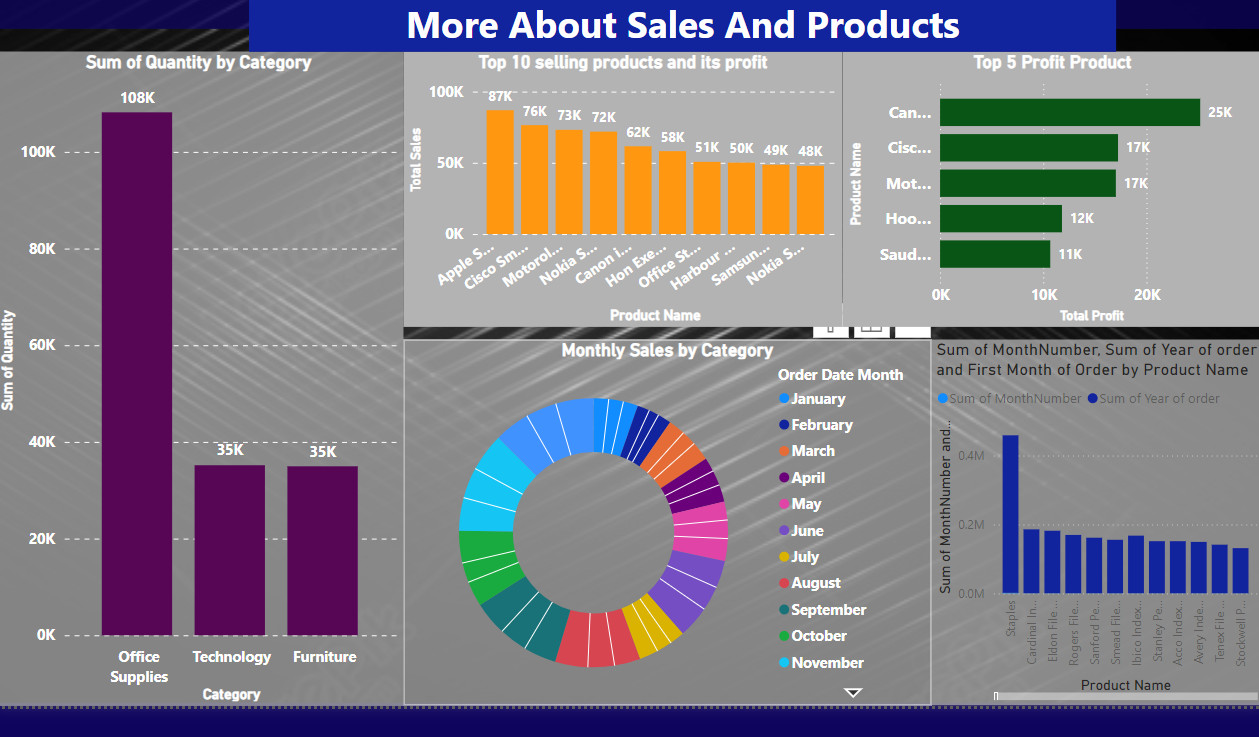

Layout of this report page (visuals, bound fields, positions):
{"tool":"powerbi","page":{"name":"Sales And Products","canvas":[1280,720],"ordinal":1},"visuals":[{"type":"donutChart","title":"Monthly Sales by Category","fields":{"Category":["Orders.Order Date.Variation.Date Hierarchy.Month"],"Y":["Sum(Orders.Sales)"],"Series":["Orders.Category"]},"box":[413.4,349.8,533,369.5],"z":1000},{"type":"clusteredColumnChart","title":"Top 10 selling products and its profit","fields":{"Category":["Orders.Product Name"],"Y":["Orders.Total Sales"]},"box":[413.3,59,443.5,277.9],"z":2000},{"type":"columnChart","fields":{"Category":["Orders.Category"],"Y":["Sum(Orders.Quantity)"]},"box":[0,59,413.3,661],"z":3000},{"type":"clusteredBarChart","title":"Top 5 Profit Product ","fields":{"Y":["Orders.Total Profit"],"Category":["Orders.Product Name"]},"box":[856.8,59,423.4,277.9],"z":4000},{"type":"textbox","box":[257.8,0,875.5,59],"z":6000},{"type":"lineStackedColumnComboChart","fields":{"Category":["Orders.Product Name"],"Y":["Sum(Orders.MonthNumber)","Sum(Orders.Year of order)"]},"box":[946,350,334,369],"z":6001}]}

Visuals, with their boxes on the page's 1280x720 design canvas (x1, y1, x2, y2). These are canvas units, not pixel positions in the 1259x737 screenshot, which may show the page scaled, cropped or inside an application window:
"Monthly Sales by Category" donutChart: (413, 350, 946, 719)
"Top 10 selling products and its profit" clusteredColumnChart: (413, 59, 857, 337)
columnChart - Orders.Category x Sum(Orders.Quantity): (0, 59, 413, 720)
"Top 5 Profit Product " clusteredBarChart: (857, 59, 1280, 337)
textbox: (258, 0, 1133, 59)
lineStackedColumnComboChart - Orders.Product Name x Sum(Orders.MonthNumber): (946, 350, 1280, 719)
